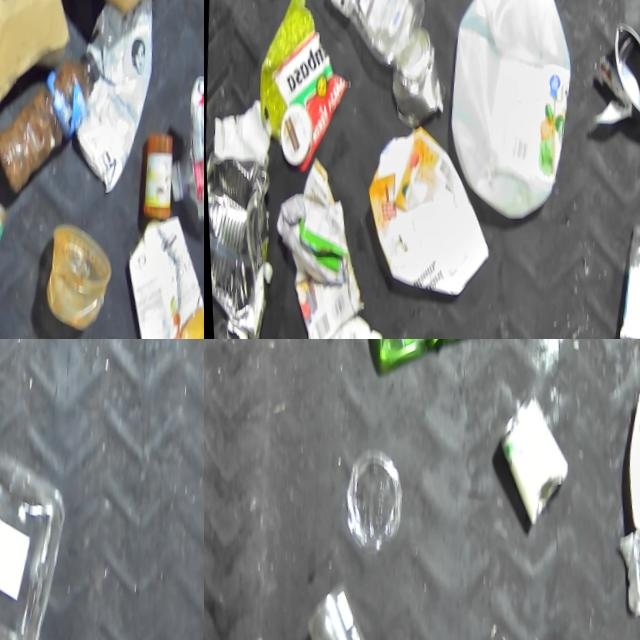can: (487, 387, 570, 532), (204, 161, 273, 242), (387, 30, 439, 124), (297, 589, 375, 640), (606, 17, 640, 122)
milk_jug: (435, 0, 584, 211), (609, 372, 640, 581)
plastic_bottle: (318, 0, 421, 50), (162, 100, 204, 208)
